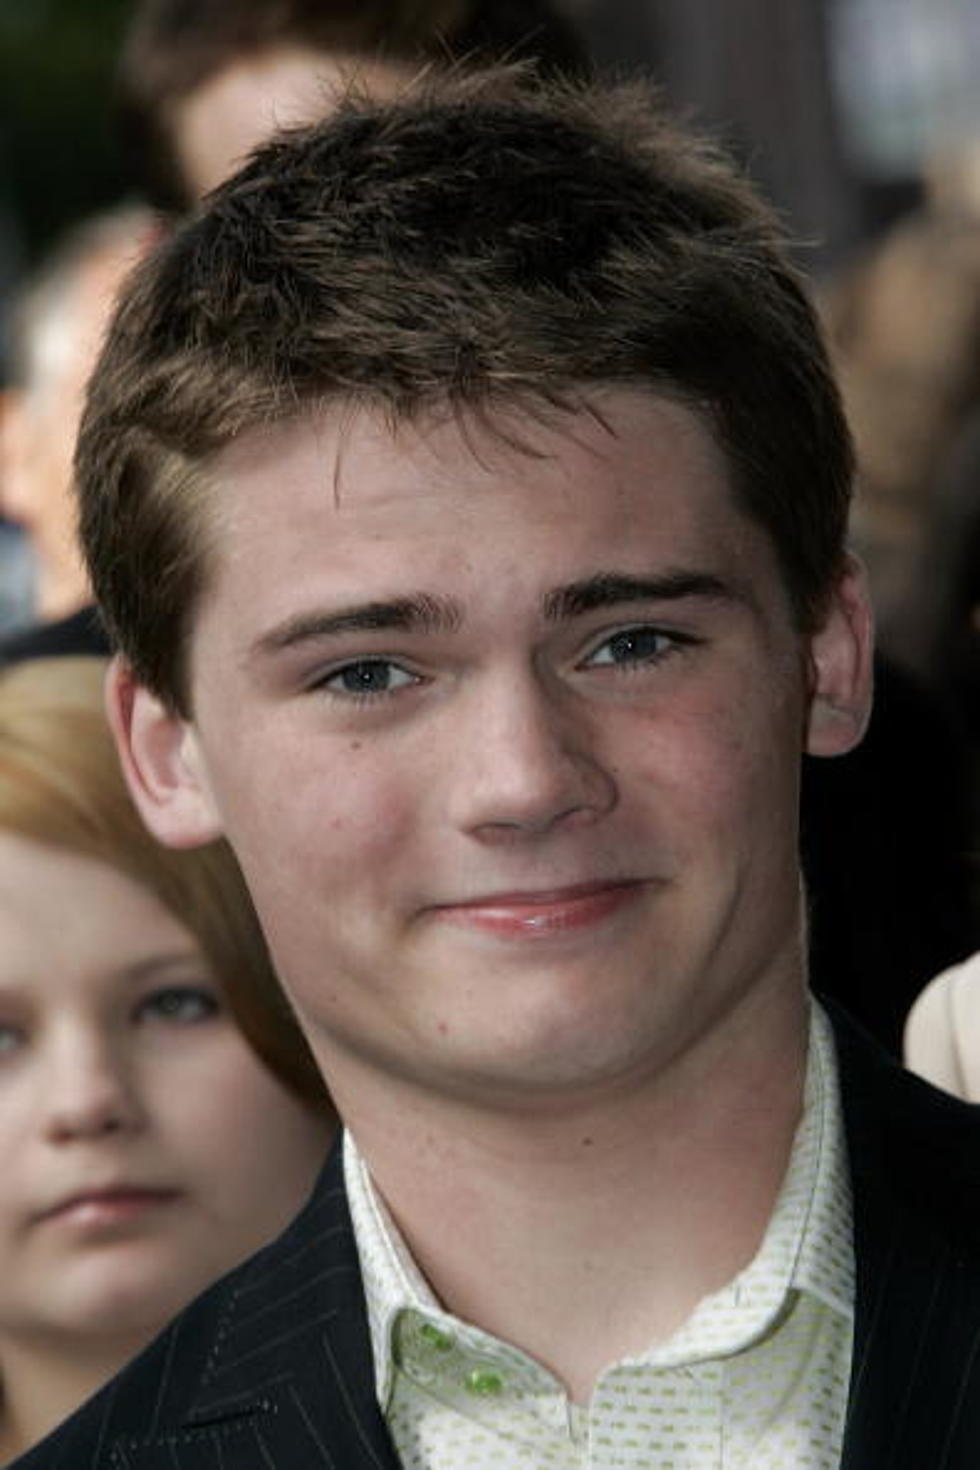no_mask: (235, 761, 803, 1121)
